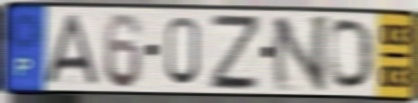0: (164, 15, 203, 88)
6: (101, 10, 146, 91)
A: (42, 12, 101, 87)
N: (269, 13, 332, 94)
O: (326, 16, 377, 93)
Z: (208, 11, 262, 92)
